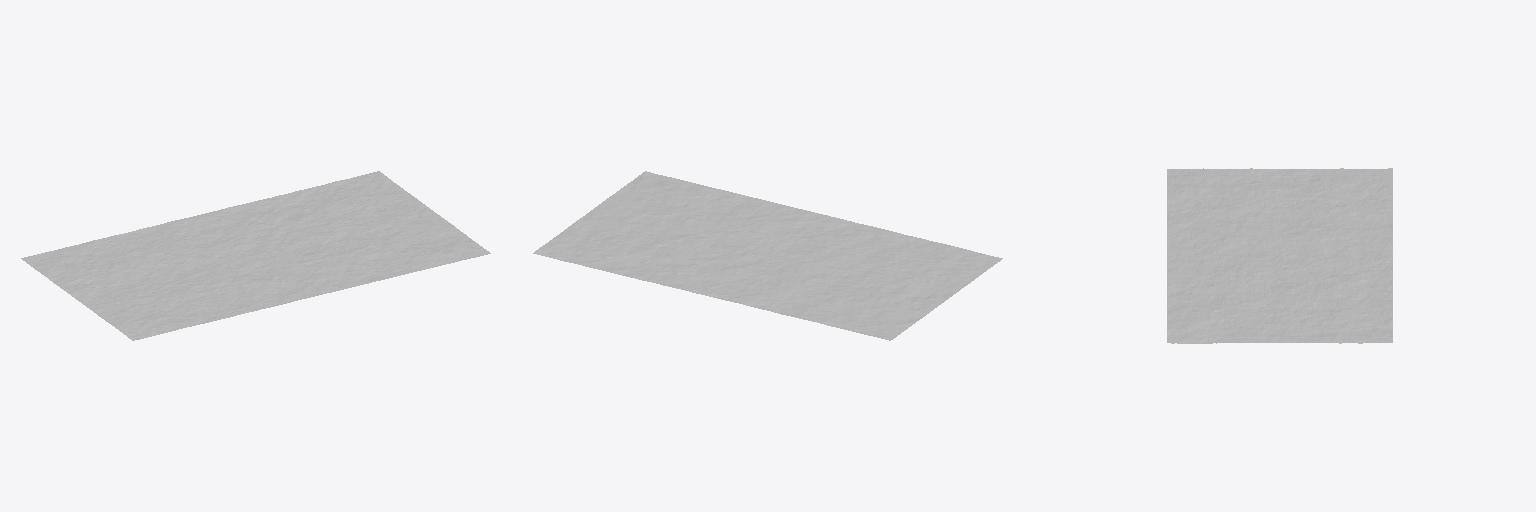
Rendered from water.obj.
3 views of the same model, side by side, from view 1: azimuth 30°, elevation 25°; view 2: azimuth 150°, elevation 25°; view 3: azimuth 270°, elevation 25° (orthographic).
Visible parts, largest first — view 1: SWIMMING_POOL_WATER_1; view 2: SWIMMING_POOL_WATER_1; view 3: SWIMMING_POOL_WATER_1.
Boxes of the visible parts, <box> form: SWIMMING_POOL_WATER_1: <box>21,171,490,340</box>; SWIMMING_POOL_WATER_1: <box>533,171,1002,340</box>; SWIMMING_POOL_WATER_1: <box>1167,168,1392,343</box>.
Bounding box in the file's own units: 202 × 0.6623 × 110.